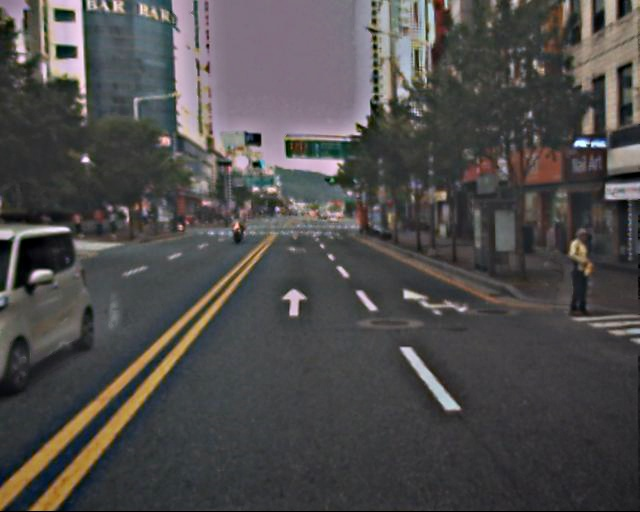person: (556, 226, 599, 315), (71, 208, 126, 242)
